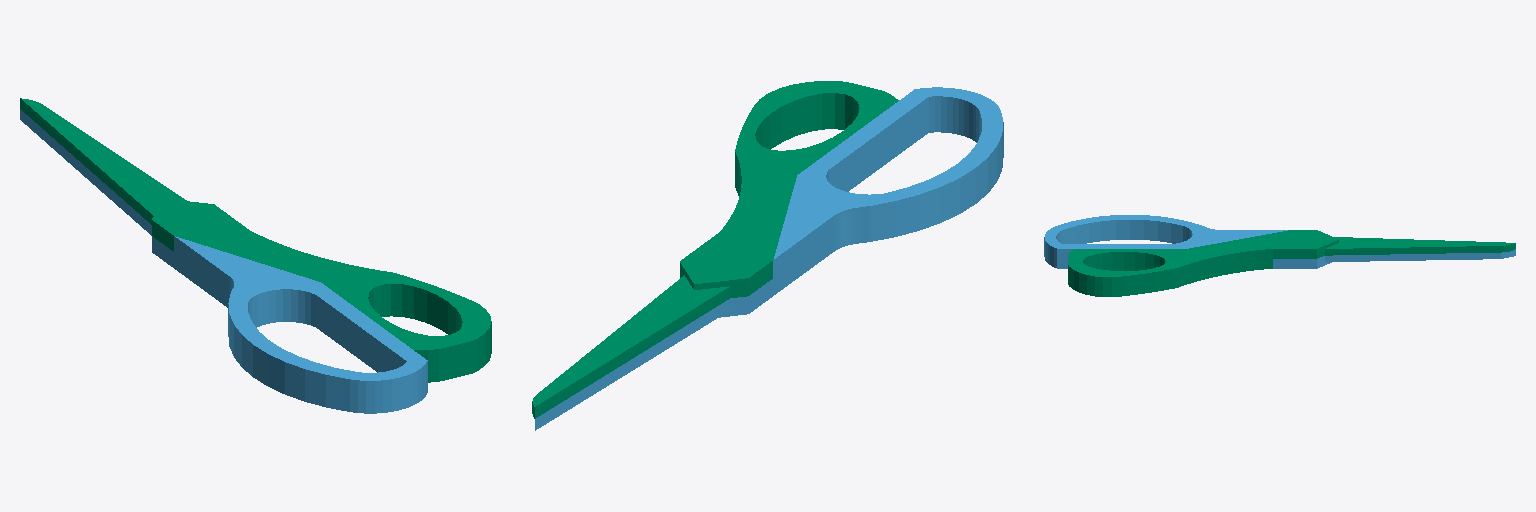
robot.urdf — partnet_u8ee196b0-0772-48fb-8ad8-541f4620bc9a:
<?xml version="1.0" ?>
<robot name="partnet_u8ee196b0-0772-48fb-8ad8-541f4620bc9a">
	<link name="base"/>
	<link name="link_0">
		<visual name="blade-4">
			<origin xyz="0.32242095264437604 0.0356360003352163 -0.03222159394190899"/>
			<geometry>
				<mesh filename="textured_objs/original-5.obj"/>
			</geometry>
		</visual>
		<visual name="handle-5">
			<origin xyz="0.32242095264437604 0.0356360003352163 -0.03222159394190899"/>
			<geometry>
				<mesh filename="textured_objs/original-8.obj"/>
			</geometry>
		</visual>
		<visual name="handle-5">
			<origin xyz="0.32242095264437604 0.0356360003352163 -0.03222159394190899"/>
			<geometry>
				<mesh filename="textured_objs/original-9.obj"/>
			</geometry>
		</visual>
		<collision>
			<origin xyz="0.32242095264437604 0.0356360003352163 -0.03222159394190899"/>
			<geometry>
				<mesh filename="textured_objs/original-5.obj"/>
			</geometry>
		</collision>
		<collision>
			<origin xyz="0.32242095264437604 0.0356360003352163 -0.03222159394190899"/>
			<geometry>
				<mesh filename="textured_objs/original-8.obj"/>
			</geometry>
		</collision>
		<collision>
			<origin xyz="0.32242095264437604 0.0356360003352163 -0.03222159394190899"/>
			<geometry>
				<mesh filename="textured_objs/original-9.obj"/>
			</geometry>
		</collision>
	</link>
	<joint name="joint_0" type="revolute">
		<origin xyz="-0.32242095264437604 -0.0356360003352163 0.03222159394190899"/>
		<axis xyz="0 -1 0"/>
		<child link="link_0"/>
		<parent link="link_1"/>
		<limit lower="-0.0" upper="1.0471975511965976"/>
	</joint>
	<link name="link_1">
		<visual name="screw-3">
			<origin xyz="0 0 0"/>
			<geometry>
				<mesh filename="textured_objs/original-10.obj"/>
			</geometry>
		</visual>
		<visual name="blade-6">
			<origin xyz="0 0 0"/>
			<geometry>
				<mesh filename="textured_objs/original-1.obj"/>
			</geometry>
		</visual>
		<visual name="handle-7">
			<origin xyz="0 0 0"/>
			<geometry>
				<mesh filename="textured_objs/original-12.obj"/>
			</geometry>
		</visual>
		<visual name="handle-7">
			<origin xyz="0 0 0"/>
			<geometry>
				<mesh filename="textured_objs/original-13.obj"/>
			</geometry>
		</visual>
		<collision>
			<origin xyz="0 0 0"/>
			<geometry>
				<mesh filename="textured_objs/original-10.obj"/>
			</geometry>
		</collision>
		<collision>
			<origin xyz="0 0 0"/>
			<geometry>
				<mesh filename="textured_objs/original-1.obj"/>
			</geometry>
		</collision>
		<collision>
			<origin xyz="0 0 0"/>
			<geometry>
				<mesh filename="textured_objs/original-12.obj"/>
			</geometry>
		</collision>
		<collision>
			<origin xyz="0 0 0"/>
			<geometry>
				<mesh filename="textured_objs/original-13.obj"/>
			</geometry>
		</collision>
	</link>
	<joint name="joint_1" type="fixed">
		<origin rpy="1.570796326794897 0 -1.570796326794897" xyz="0 0 0"/>
		<child link="link_1"/>
		<parent link="base"/>
	</joint>
</robot>

--- Render facts (derived) ---
The picture shows the robot from 3 angles, left to right: view 1: azimuth 30°, elevation 25°; view 2: azimuth 150°, elevation 25°; view 3: azimuth 270°, elevation 25°; orthographic projection.
Robot: partnet_u8ee196b0-0772-48fb-8ad8-541f4620bc9a — 3 links, 2 joints (1 revolute, 1 fixed); root link base; default pose: all joints at 0.
Visible links, largest first — view 1: link_0, link_1; view 2: link_0, link_1; view 3: link_1, link_0.
Link boxes in pixels (x1,y1,x2,y2): link_0: (20, 109, 427, 413); link_1: (20, 98, 491, 382); link_0: (535, 87, 1003, 430); link_1: (532, 81, 898, 418); link_1: (1068, 230, 1515, 296); link_0: (1044, 215, 1515, 268).
Bounding box of the posed robot: 0.496 × 1.57 × 0.0736 m (x, y, z).
7 mesh visuals loaded from 7 distinct referenced files (7 OBJ).
